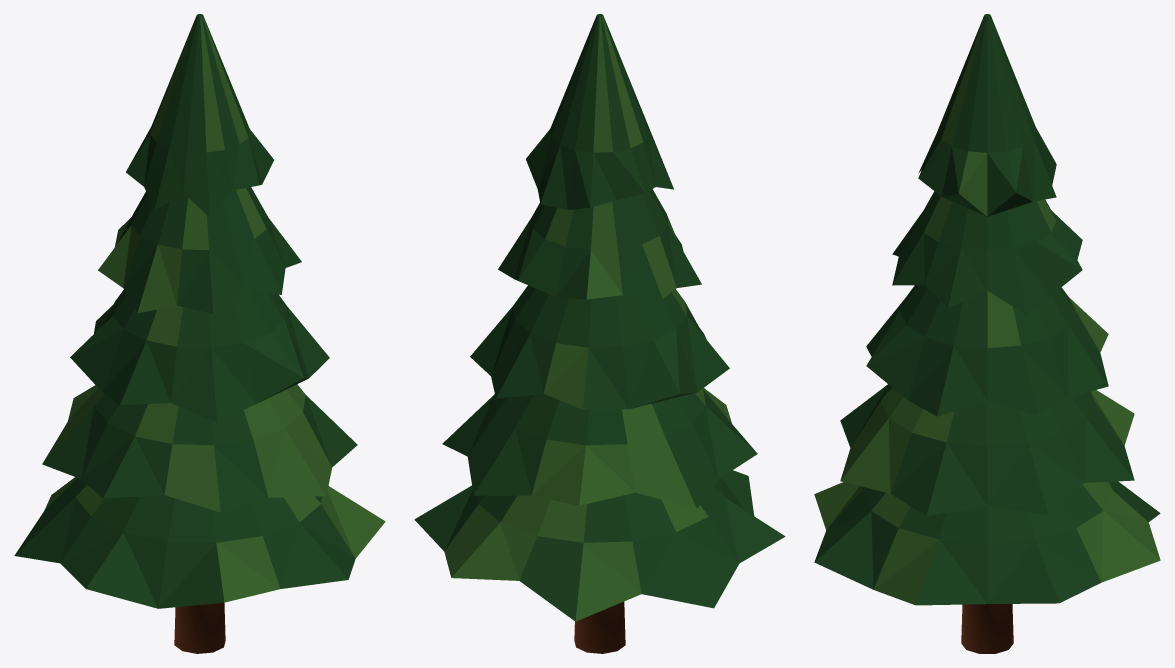
Rendered from tree_pine.obj.
The picture shows the model from 3 angles, left to right: view 1: azimuth 30°, elevation 25°; view 2: azimuth 150°, elevation 25°; view 3: azimuth 270°, elevation 25°; orthographic projection.
Parts seen in each view (by area): view 1: tree_pine; view 2: tree_pine; view 3: tree_pine.
Boxes of the visible parts, <box> form: tree_pine: <box>14,14,385,653</box>; tree_pine: <box>414,14,785,653</box>; tree_pine: <box>814,14,1160,653</box>.
Size of the model in its own units: 2 by 4 by 2.
